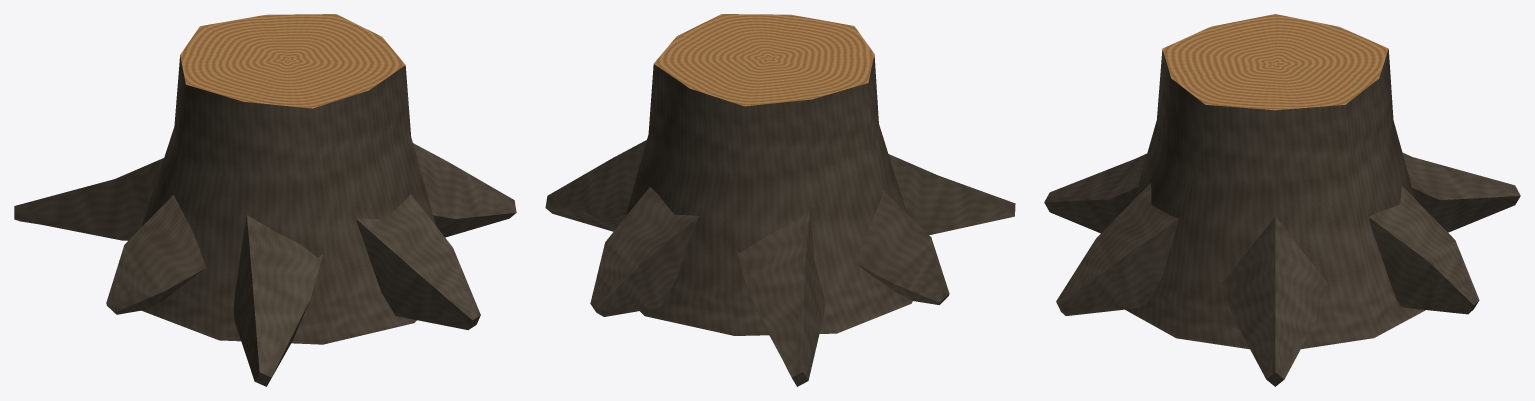
The model's file is SS_Stump_01_LOD2.fbx.
3 renders of one model, left to right at view 1: azimuth 30°, elevation 25°; view 2: azimuth 150°, elevation 25°; view 3: azimuth 270°, elevation 25°, orthographic. The views are drawn at different scales.
Visible parts, largest first — view 1: SS_Stump_01_LOD2_Mesh; view 2: SS_Stump_01_LOD2_Mesh; view 3: SS_Stump_01_LOD2_Mesh.
Boxes of the visible parts, left/top/right/bottom form: SS_Stump_01_LOD2_Mesh: left=14, top=14, right=516, bottom=386; SS_Stump_01_LOD2_Mesh: left=545, top=14, right=1015, bottom=386; SS_Stump_01_LOD2_Mesh: left=1044, top=14, right=1520, bottom=386.
Bounding box in the file's own units: 89.66 × 45.45 × 89.76.
